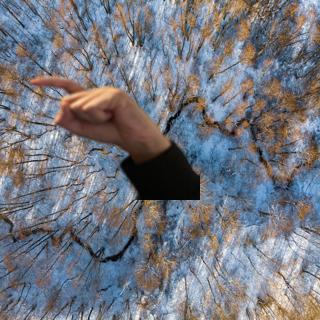WHY: (25, 68, 163, 158)
